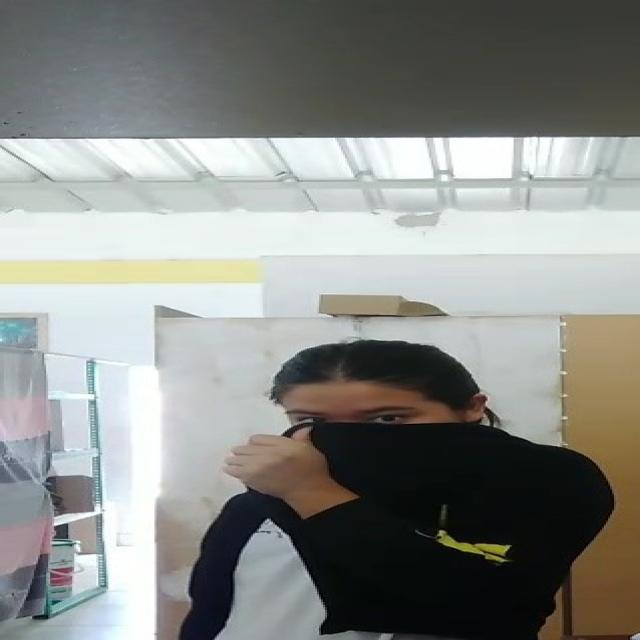8_ropa_rostro: (235, 414, 508, 517)
